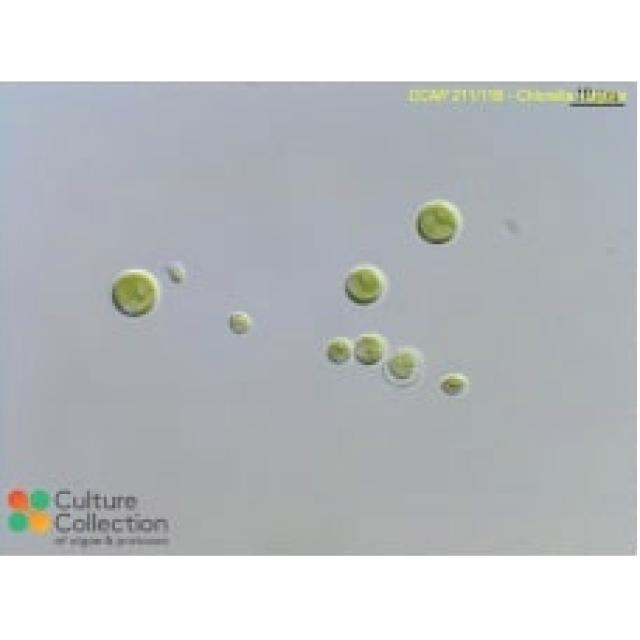Green Algae: (109, 270, 160, 317), (413, 202, 460, 247), (342, 261, 384, 303), (382, 348, 418, 382), (351, 331, 384, 362), (435, 370, 474, 396), (326, 337, 354, 368), (224, 312, 256, 334), (166, 258, 188, 286)
